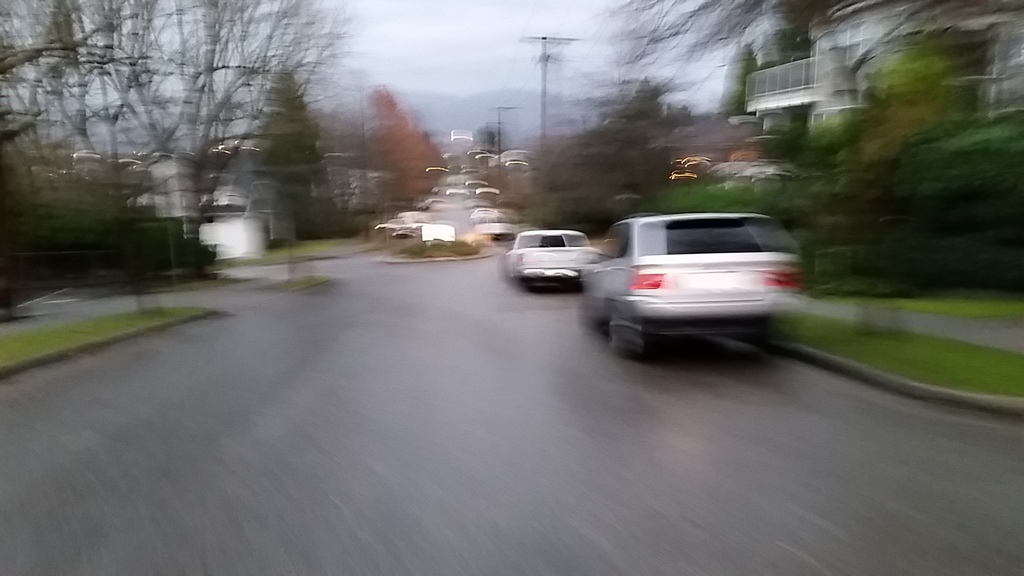cars: (582, 205, 815, 362), (501, 227, 601, 291)
